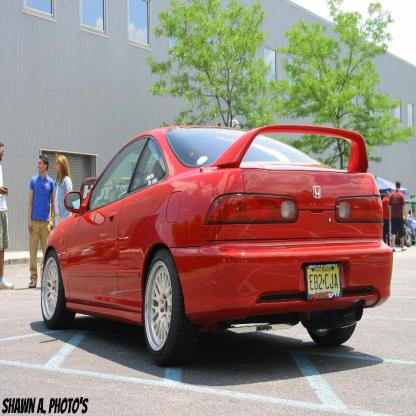Car: (41, 125, 393, 369)
